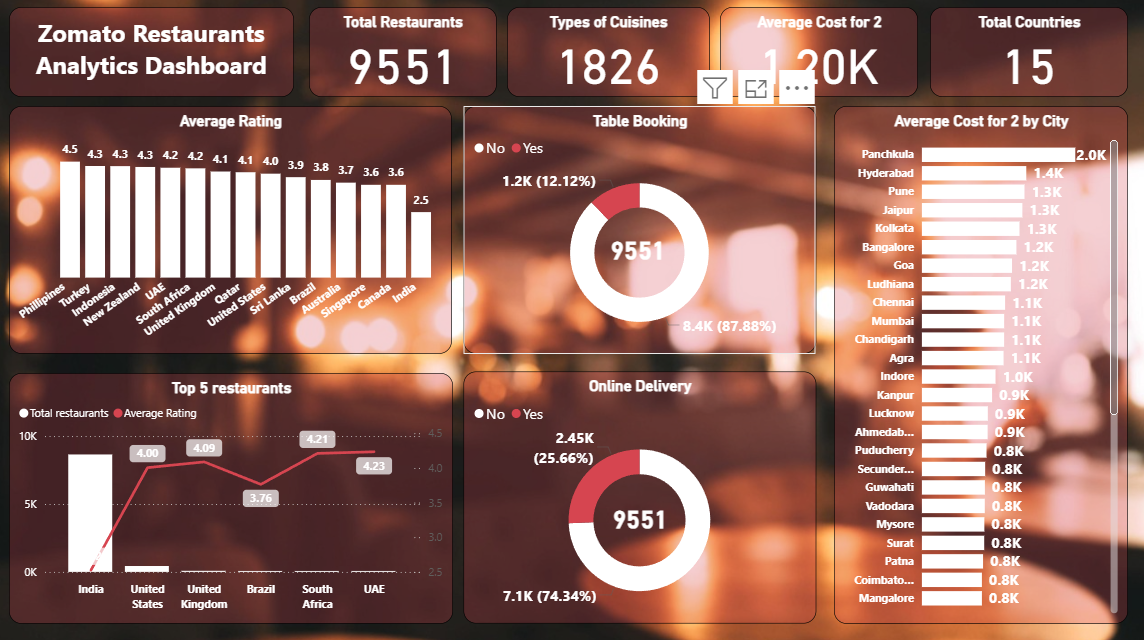

Layout of this report page (visuals, bound fields, positions):
{"tool":"powerbi","page":{"name":"Page 1","canvas":[1280,720],"ordinal":0},"visuals":[{"type":"card","title":"Total Restaurants","fields":{"Values":["CountNonNull(zomato.Restaurant ID)"]},"box":[350,13.3,208.3,100],"z":0},{"type":"card","title":"Types of Cuisines","fields":{"Values":["Count(zomato.Cuisines)"]},"box":[570,13.3,225,100],"z":1000},{"type":"card","title":"Total Countries","fields":{"Values":["Count(zomato.Country Code)"]},"box":[1040,13.3,220,100],"z":2000},{"type":"card","title":"Average Cost for 2","fields":{"Values":["Avg(zomato.Average Cost for two)"]},"box":[806.7,13.3,220,100],"z":3000},{"type":"columnChart","title":"Average Rating","fields":{"Category":["Country.Country"],"Y":["Avg(zomato.Aggregate rating)"]},"box":[16.7,123.3,491.7,275],"z":4000},{"type":"donutChart","title":"Table Booking","fields":{"Category":["zomato.Has Table booking"],"Y":["CountNonNull(zomato.Restaurant ID)"]},"box":[521.7,123.3,391.7,275],"z":5000},{"type":"donutChart","title":"Online Delivery","fields":{"Category":["zomato.Has Online delivery"],"Y":["CountNonNull(zomato.Restaurant ID)"]},"box":[521.7,418.3,391.7,280],"z":6000},{"type":"card","fields":{"Values":["CountNonNull(zomato.Restaurant ID)"]},"box":[640,520,155,121.7],"z":7000},{"type":"clusteredBarChart","title":"Average Cost for 2 by City ","fields":{"Category":["zomato.City"],"Y":["Country.Avg Cost for 2"],"Series":["Country.Country"]},"box":[933.3,123.3,326.7,575],"z":8000},{"type":"card","fields":{"Values":["CountNonNull(zomato.Restaurant ID)"]},"box":[653.3,221.7,123.3,121.7],"z":9000},{"type":"lineClusteredColumnComboChart","title":"Top 5 restaurants","fields":{"Category":["Country.Country"],"Y":["Country.Total restaurants"],"Y2":["Country.Average Rating"]},"box":[16.7,420,493.3,278.3],"z":10000},{"type":"textbox","box":[16.7,13.3,316.7,100],"z":11000}]}

Visuals, with their boxes in screenshot pixels (x1, y1, x2, y2), scaled from the page's 1280x720 canvas onto the 1144x640 screenshot:
"Total Restaurants" card: Rect(313, 12, 499, 101)
"Types of Cuisines" card: Rect(509, 12, 711, 101)
"Total Countries" card: Rect(930, 12, 1126, 101)
"Average Cost for 2" card: Rect(721, 12, 918, 101)
"Average Rating" columnChart: Rect(15, 110, 454, 354)
"Table Booking" donutChart: Rect(466, 110, 816, 354)
"Online Delivery" donutChart: Rect(466, 372, 816, 621)
card - CountNonNull(zomato.Restaurant ID): Rect(572, 462, 711, 570)
"Average Cost for 2 by City " clusteredBarChart: Rect(834, 110, 1126, 621)
card - CountNonNull(zomato.Restaurant ID): Rect(584, 197, 694, 305)
"Top 5 restaurants" lineClusteredColumnComboChart: Rect(15, 373, 456, 621)
textbox: Rect(15, 12, 298, 101)
